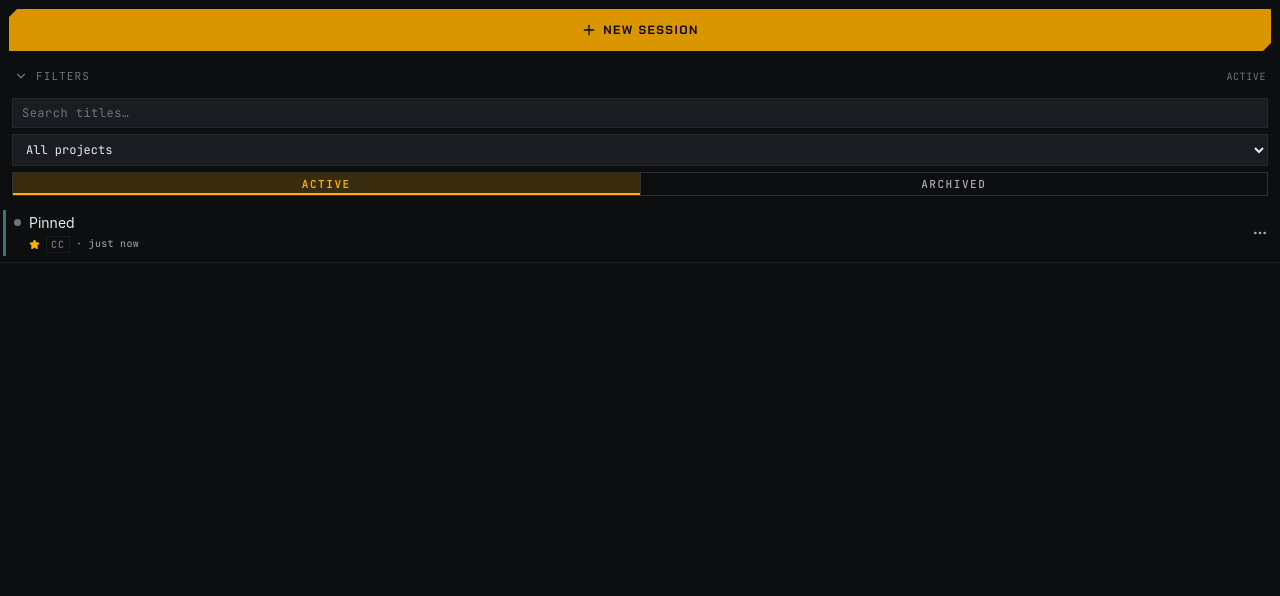
a favorited row shows the ★ prefix and unfavorites from the menu (#508)
Expected: the text "Pinned" is shown, [29,214,75,231]
Expected: the element titled "Favorited" is shown, [29,239,40,250]
Click the button named "Session actions".
click(1260, 233)  # box [1246,219,1274,247]
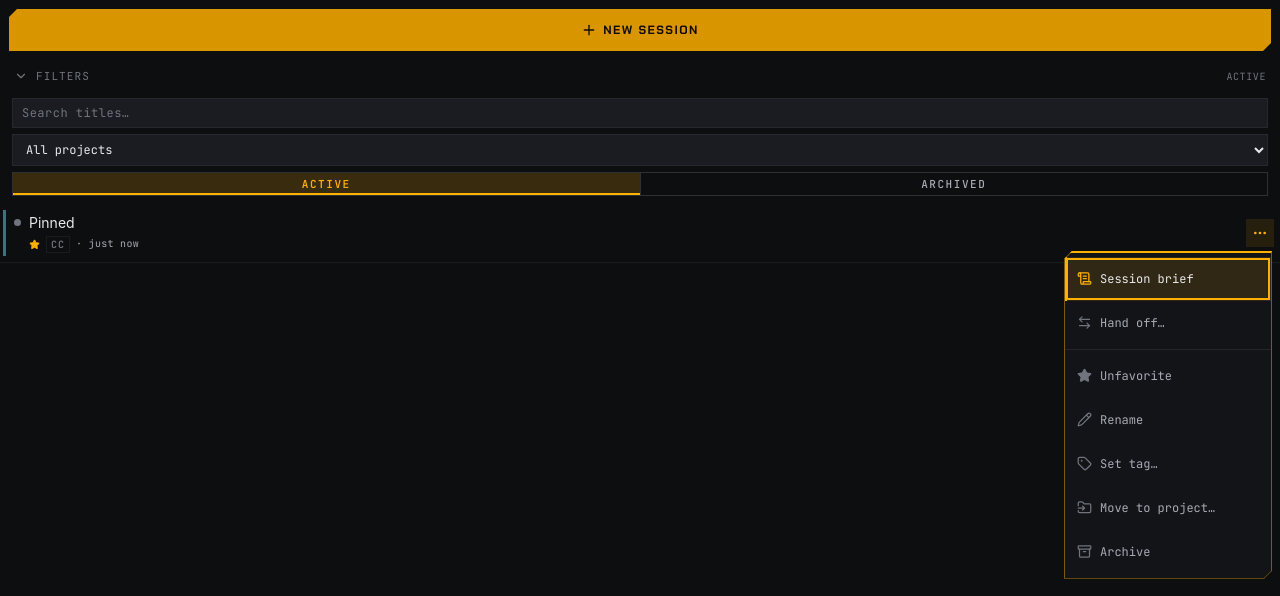
Click the menu item with aria-label "Unfavorite session".
click(1168, 376)  # box [1065,354,1271,398]
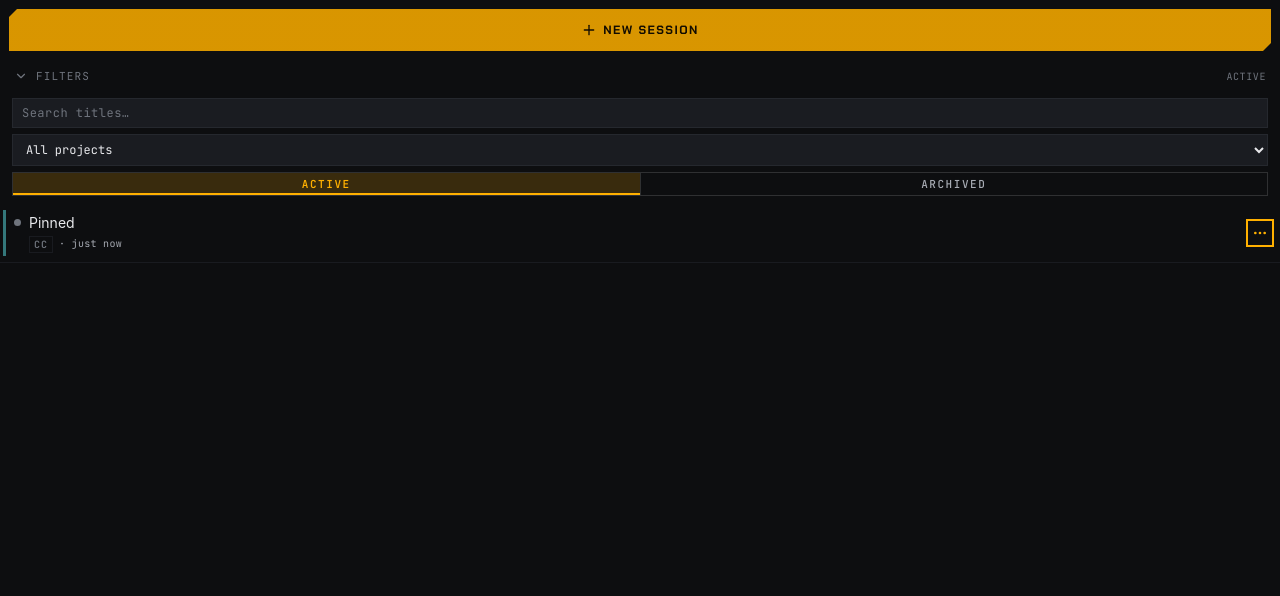
Result: the element titled "Favorited" is gone
